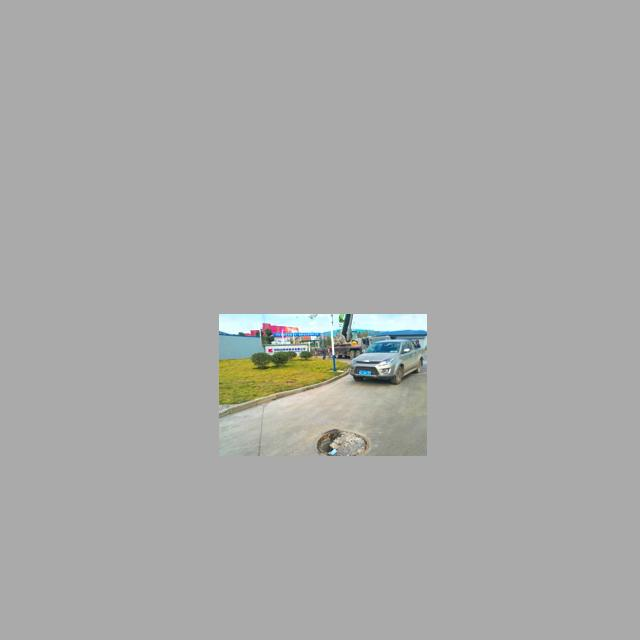broke: (317, 430, 367, 456)
